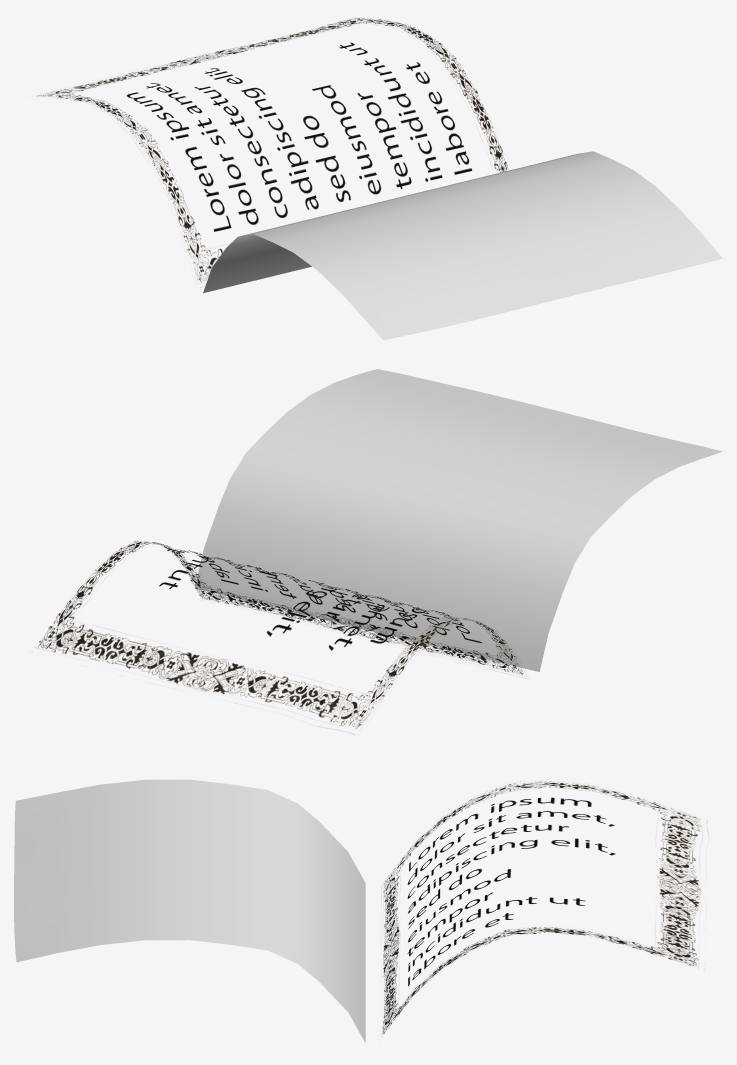
The model's file is Pages.glb.
The picture shows the model from 3 angles, top to bottom: view 1: azimuth 30°, elevation 25°; view 2: azimuth 150°, elevation 25°; view 3: azimuth 270°, elevation 25°; orthographic projection. The views are drawn at different scales.
Visible parts, largest first — view 1: L_Decal, R_Decal; view 2: L_Decal, R_Decal; view 3: L_Decal, R_Decal.
Boxes of the visible parts, <box> form: L_Decal: <box>203,151,722,340</box>; R_Decal: <box>37,18,508,287</box>; L_Decal: <box>194,369,722,671</box>; R_Decal: <box>30,540,526,734</box>; L_Decal: <box>14,779,365,1042</box>; R_Decal: <box>381,781,709,1035</box>.
Size of the model in its own units: 1.81 by 0.5869 by 3.31.
2 materials, 1 textured.
